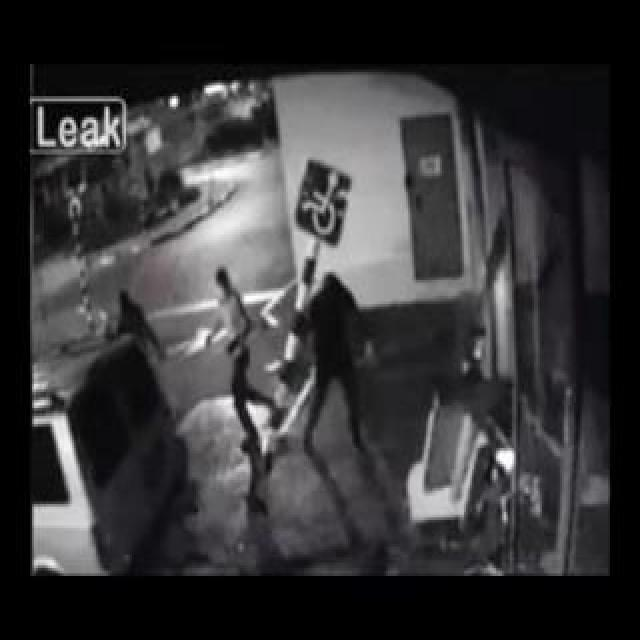thief: (219, 248, 342, 350), (102, 262, 142, 318)
